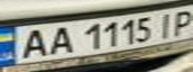1: (78, 20, 103, 50), (118, 16, 139, 45), (100, 19, 121, 47)
5: (133, 14, 160, 43)
A: (12, 26, 54, 60), (42, 24, 78, 56)
I: (151, 10, 181, 38)
P: (166, 7, 193, 37)
